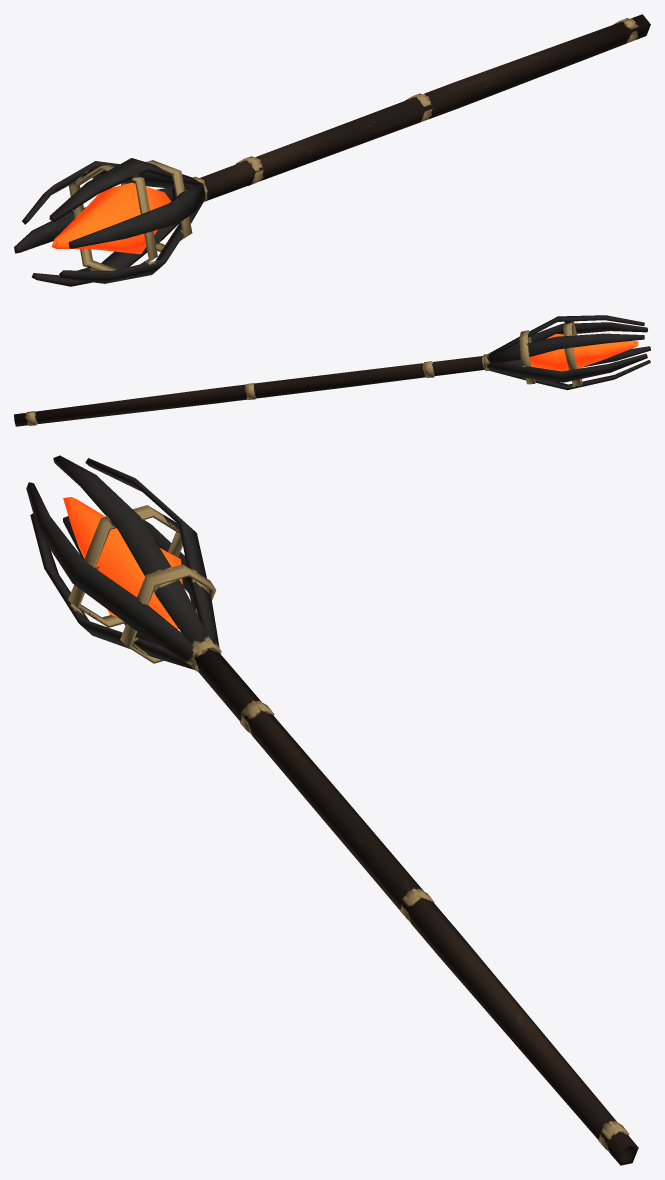
The model's file is wep_civic_ember_arcanist_ember_staff_lod2.glb.
The picture shows the model from 3 angles, top to bottom: view 1: azimuth 30°, elevation 25°; view 2: azimuth 150°, elevation 25°; view 3: azimuth 270°, elevation 25°; orthographic projection. The views are drawn at different scales.
Parts seen in each view (by area): view 1: ember_arcanist_weapon_lod2; view 2: ember_arcanist_weapon_lod2; view 3: ember_arcanist_weapon_lod2.
Part boxes in pixels (x1,y1,x2,y2): ember_arcanist_weapon_lod2: [14, 14, 650, 286]; ember_arcanist_weapon_lod2: [14, 315, 650, 426]; ember_arcanist_weapon_lod2: [26, 455, 638, 1165].
Bounding box in the file's own units: 1.82 × 0.4245 × 0.9641.
Materials: 1 (1 with a texture image).
